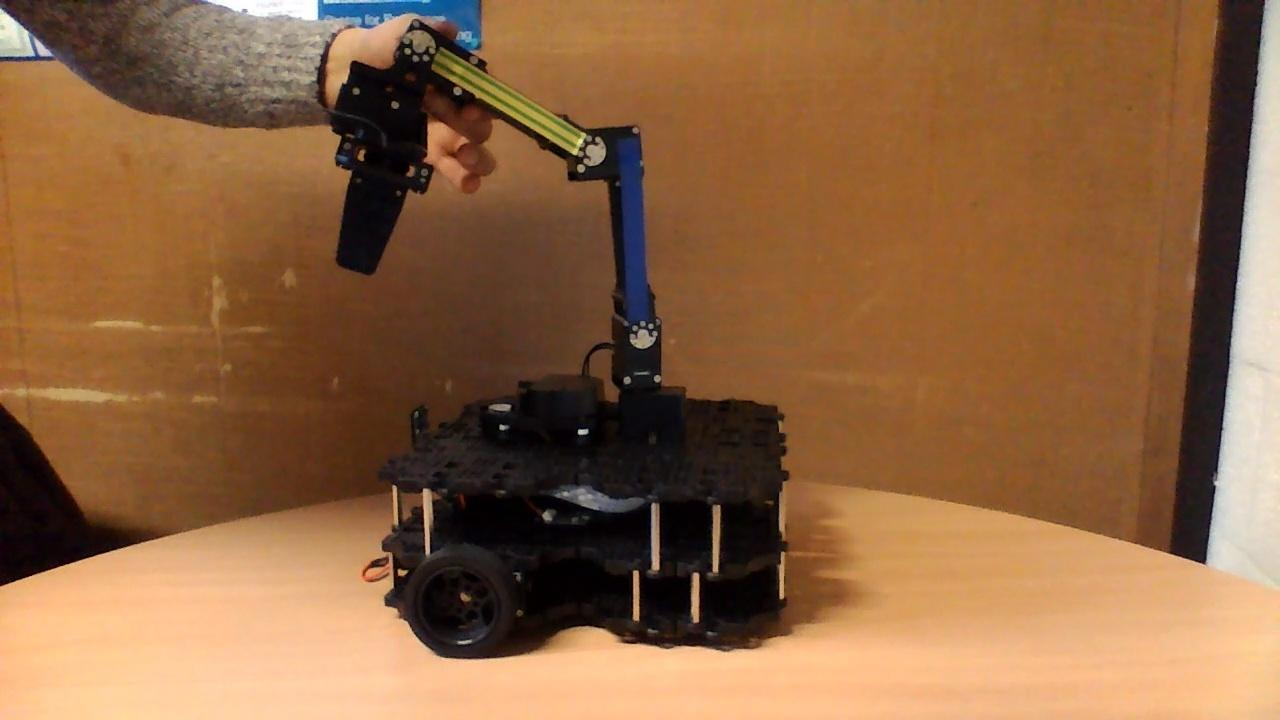Arm: (565, 117, 667, 351)
Hand: (322, 56, 447, 284)
Wrist: (408, 16, 608, 184)
base: (359, 372, 795, 659)
